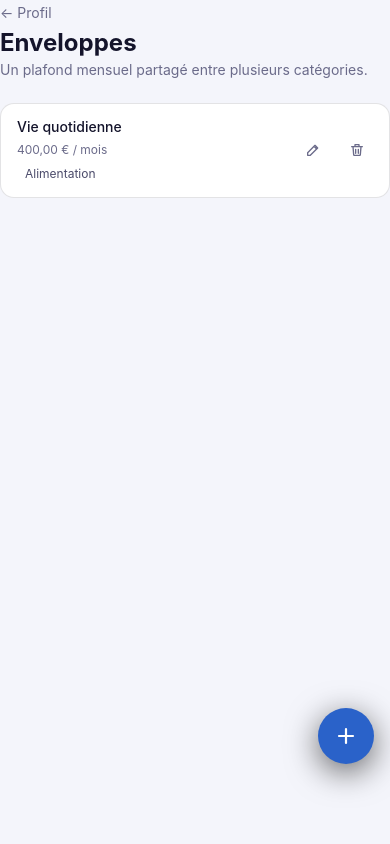
EnvelopesPage — création › le bouton flottant ouvre la modale de création
Click the button named "Ajouter une enveloppe". click: (346, 736)
box: top-left (318, 708), bottom-right (374, 764)
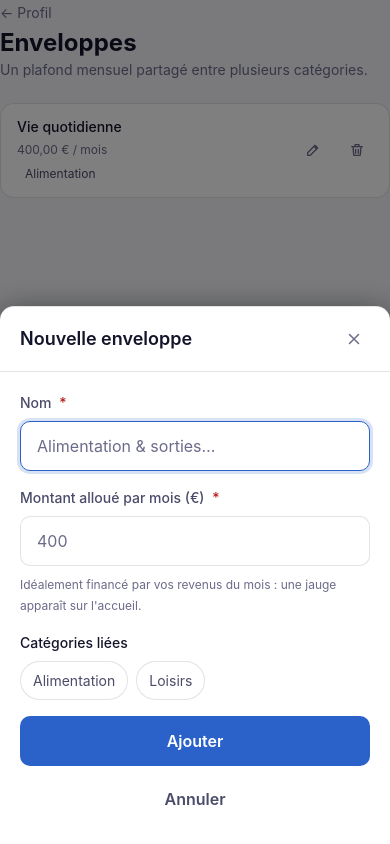
Now the dialog shows "Nouvelle enveloppe", box top-left (20, 328), bottom-right (192, 349)
Now the field with id "envelope-name" is empty, box top-left (20, 421), bottom-right (370, 471)
